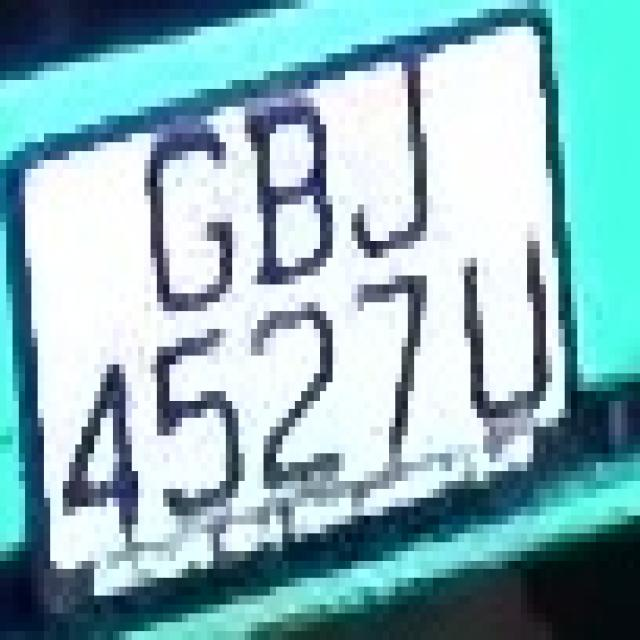2: (220, 284, 345, 506)
4: (38, 338, 163, 560)
5: (132, 311, 251, 516)
7: (332, 258, 446, 507)
B: (245, 80, 339, 311)
G: (126, 89, 244, 329)
J: (320, 36, 445, 276)
U: (439, 231, 565, 436)
